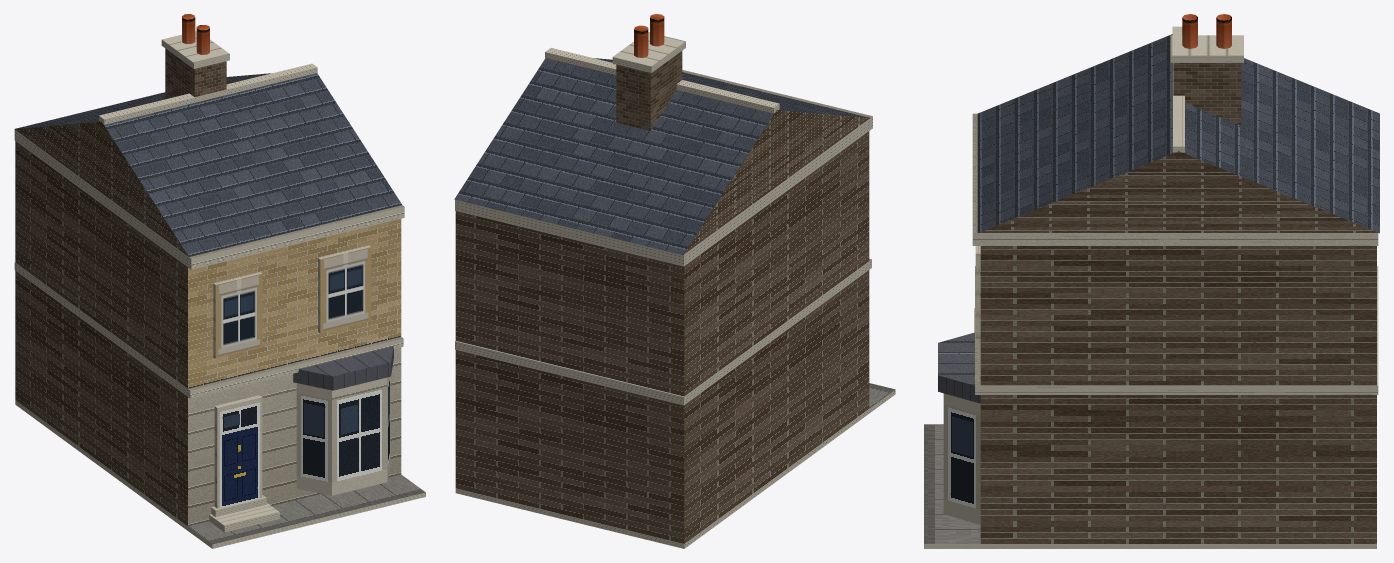
File: building_victorian_house_02.glb
3 renders of one model, left to right at view 1: azimuth 30°, elevation 25°; view 2: azimuth 150°, elevation 25°; view 3: azimuth 270°, elevation 25°, orthographic. The views are drawn at different scales.
Parts seen in each view (by area): view 1: Building_Victorian_House_02; view 2: Building_Victorian_House_02; view 3: Building_Victorian_House_02.
Part boxes in pixels (box(x1,y1,x2,y2)): Building_Victorian_House_02: box(14, 14, 425, 548); Building_Victorian_House_02: box(454, 14, 895, 548); Building_Victorian_House_02: box(924, 14, 1379, 548).
Size of the model in its own units: 5 by 9.19 by 8.05.
1 material, 1 textured.
